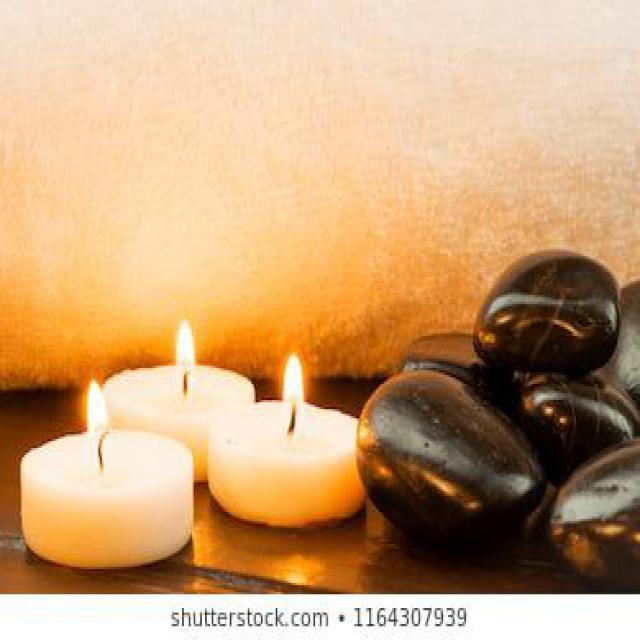Fire: (86, 377, 109, 453), (176, 321, 197, 383), (284, 356, 304, 412)
